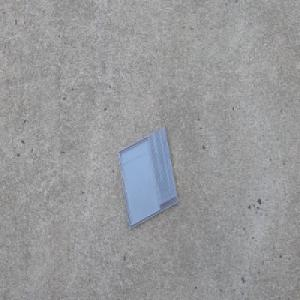PlasticPart: (117, 124, 179, 230)
